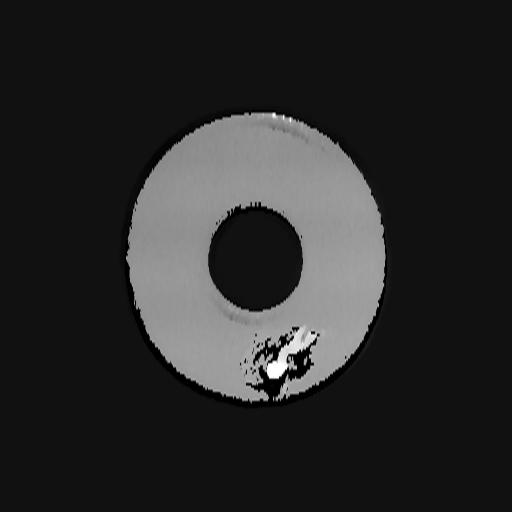defect: (240, 324, 321, 401)
